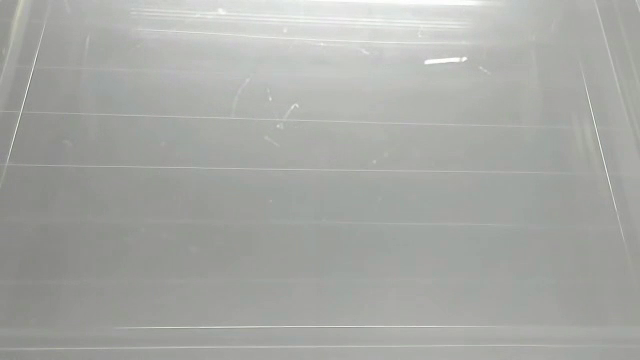alpha: (421, 53, 472, 69)
